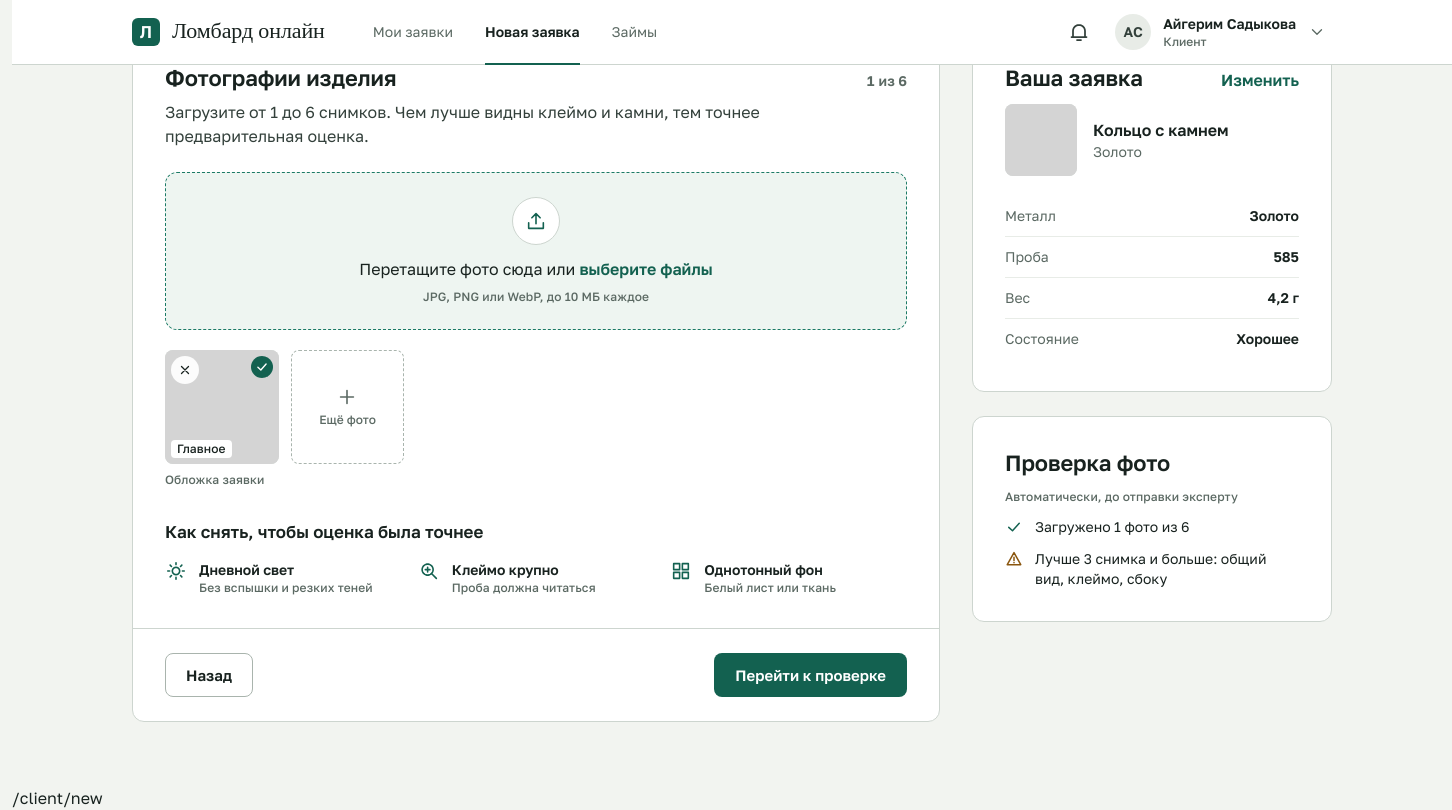
Test: Application wizard › opens an existing draft on the photo step and shows submit problems
This screenshot has width=1452, height=810.
(page scrolled)
Expected: the heading "Фотографии изделия" is shown, [165, 64, 396, 92]
Click the button "Перейти к проверке".
click(811, 675)  # box [714, 653, 907, 697]
(page scrolled)
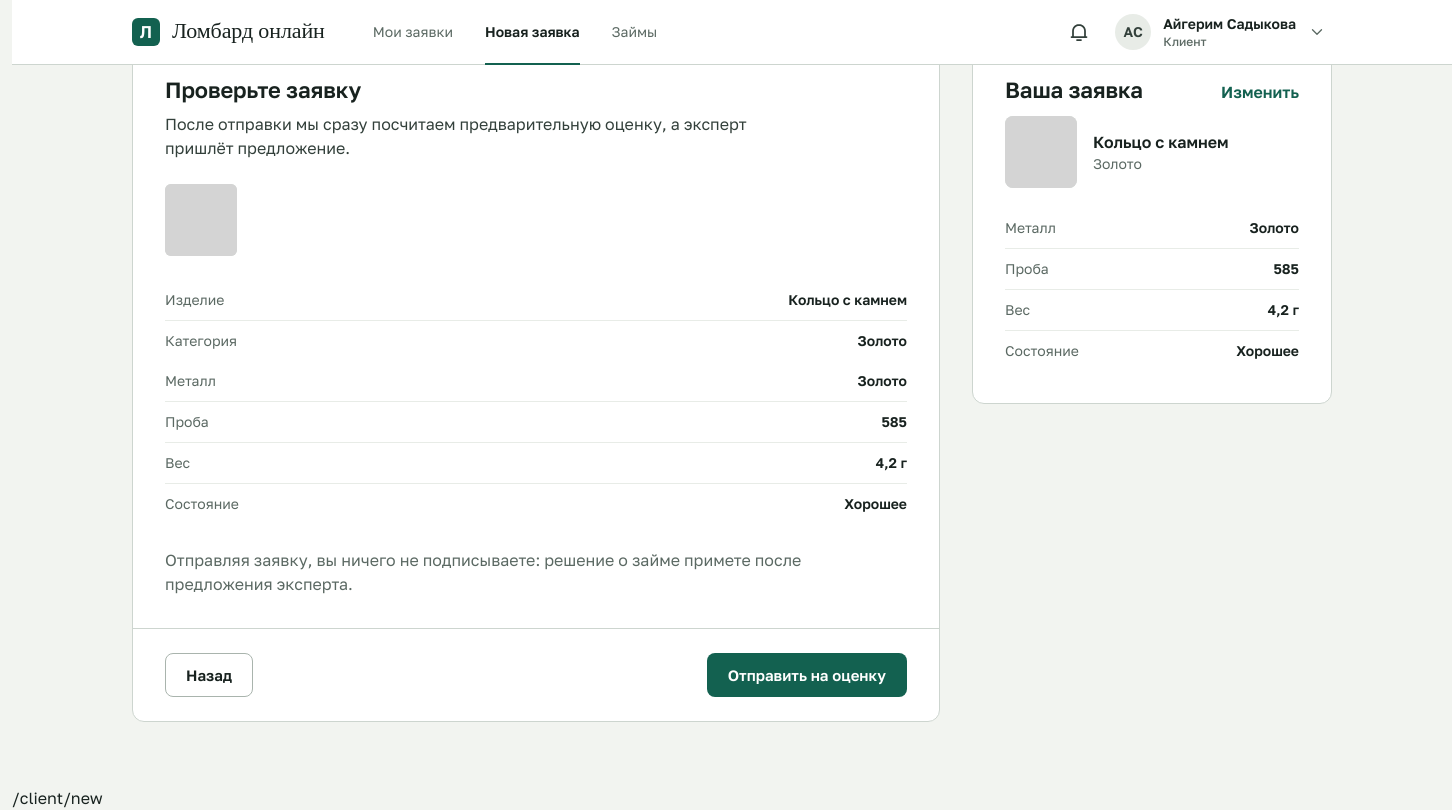
Click the button "Отправить на оценку".
click(807, 675)  # box [707, 653, 907, 697]
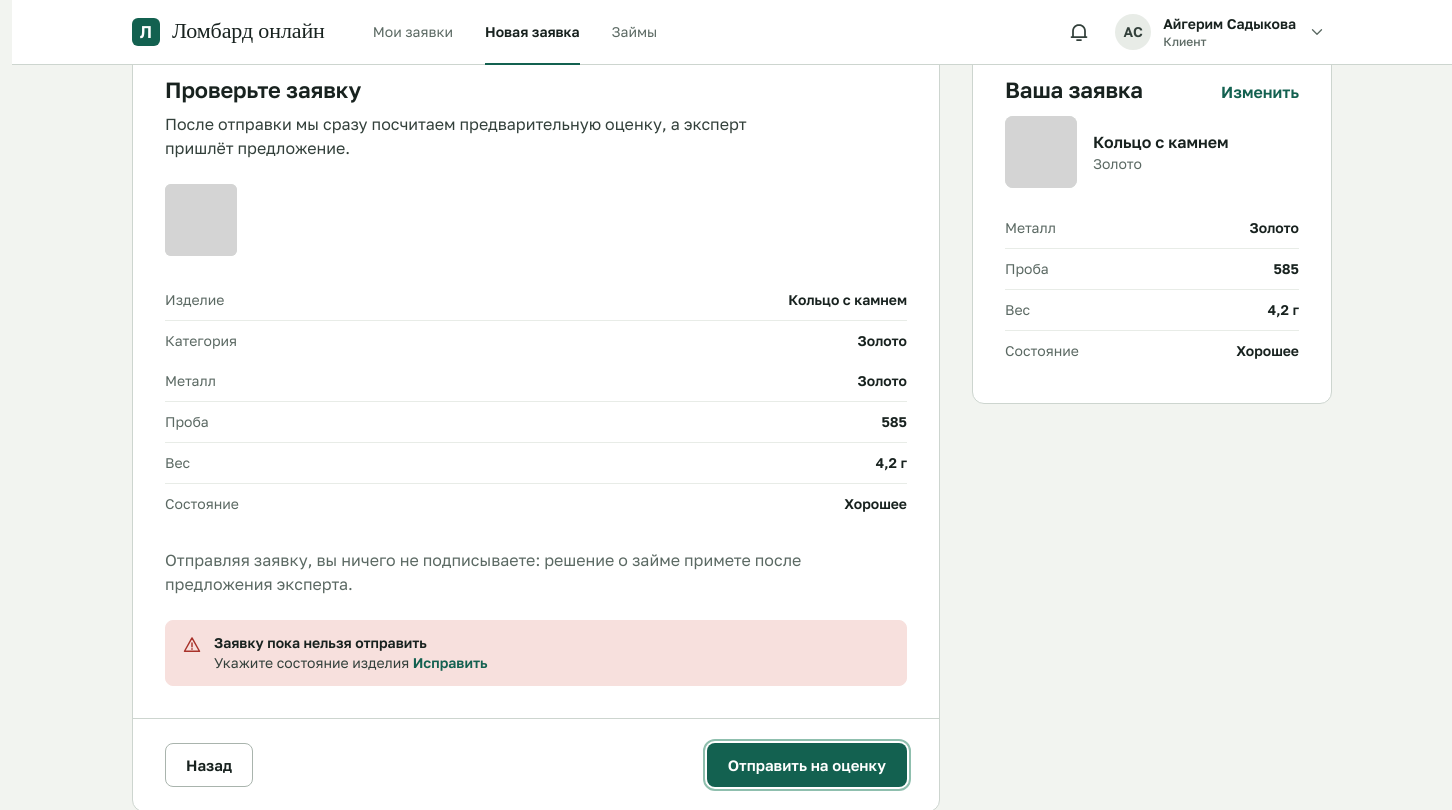
Expected: the message shows "Заявку пока нельзя отправить", [214, 634, 427, 651]
Expected: the message shows "Укажите состояние изделия", [214, 654, 409, 671]
Click the button "Исправить".
click(450, 663)  # box [413, 653, 488, 673]
(page scrolled)
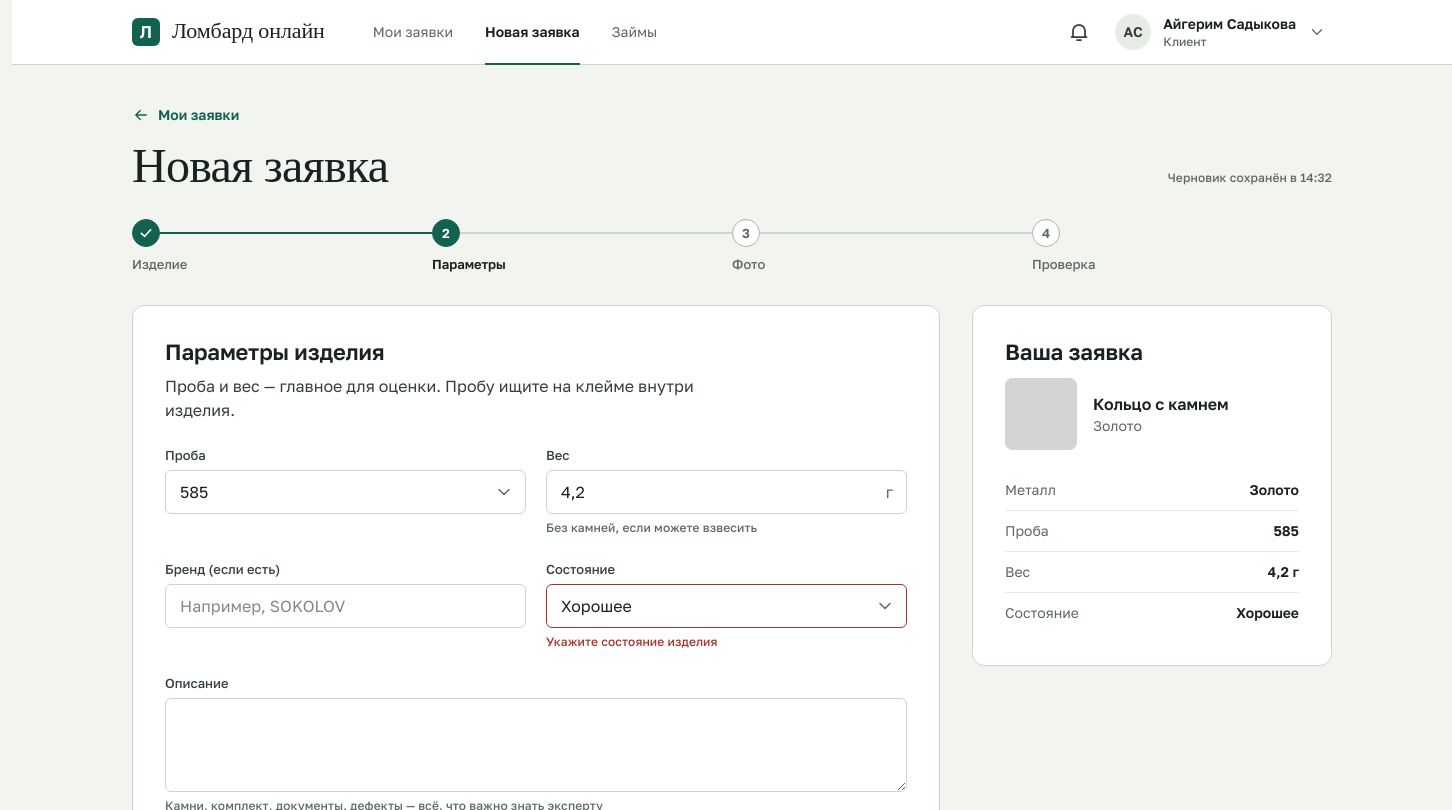
Expected: the heading "Параметры изделия" is shown, [165, 338, 384, 366]
